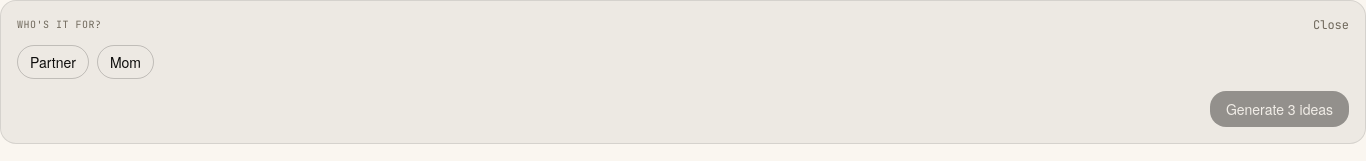
it: CardMessageAssist › enables generate button after selecting a chip
What coordinates should you click on to do the following:
click the button "Partner"
I would click on:
 (53, 62)
Its box is [17,45,89,79].
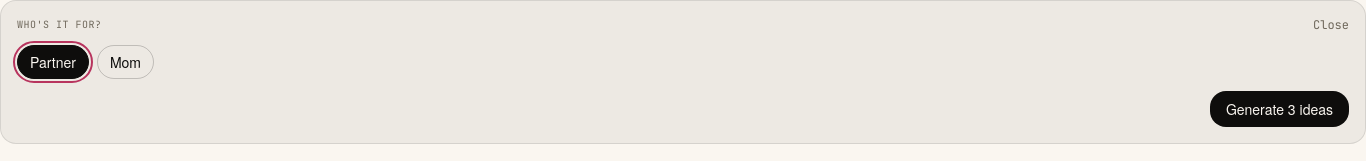
Expected: the button "Generate 3 ideas" is enabled, [1210,91,1349,127]
